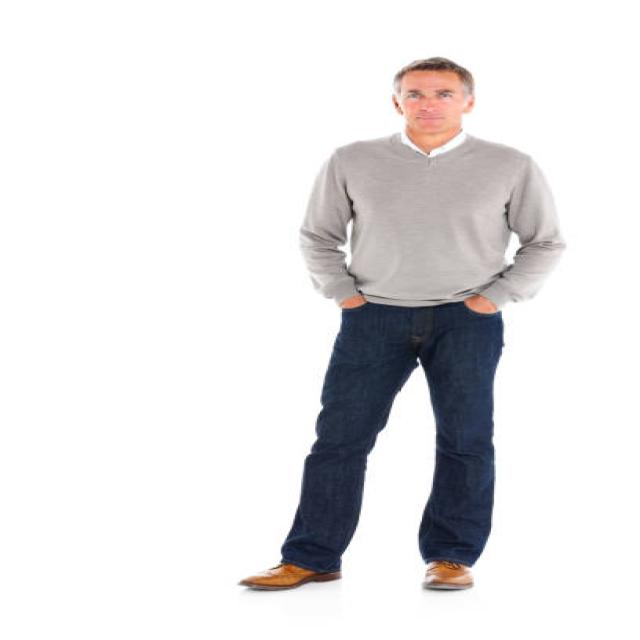Edited images: (222, 49, 566, 605)
